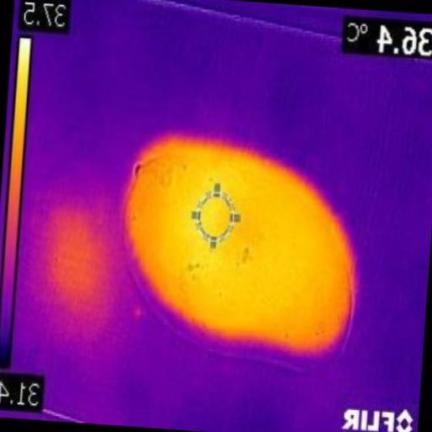mango: (128, 134, 356, 359)
